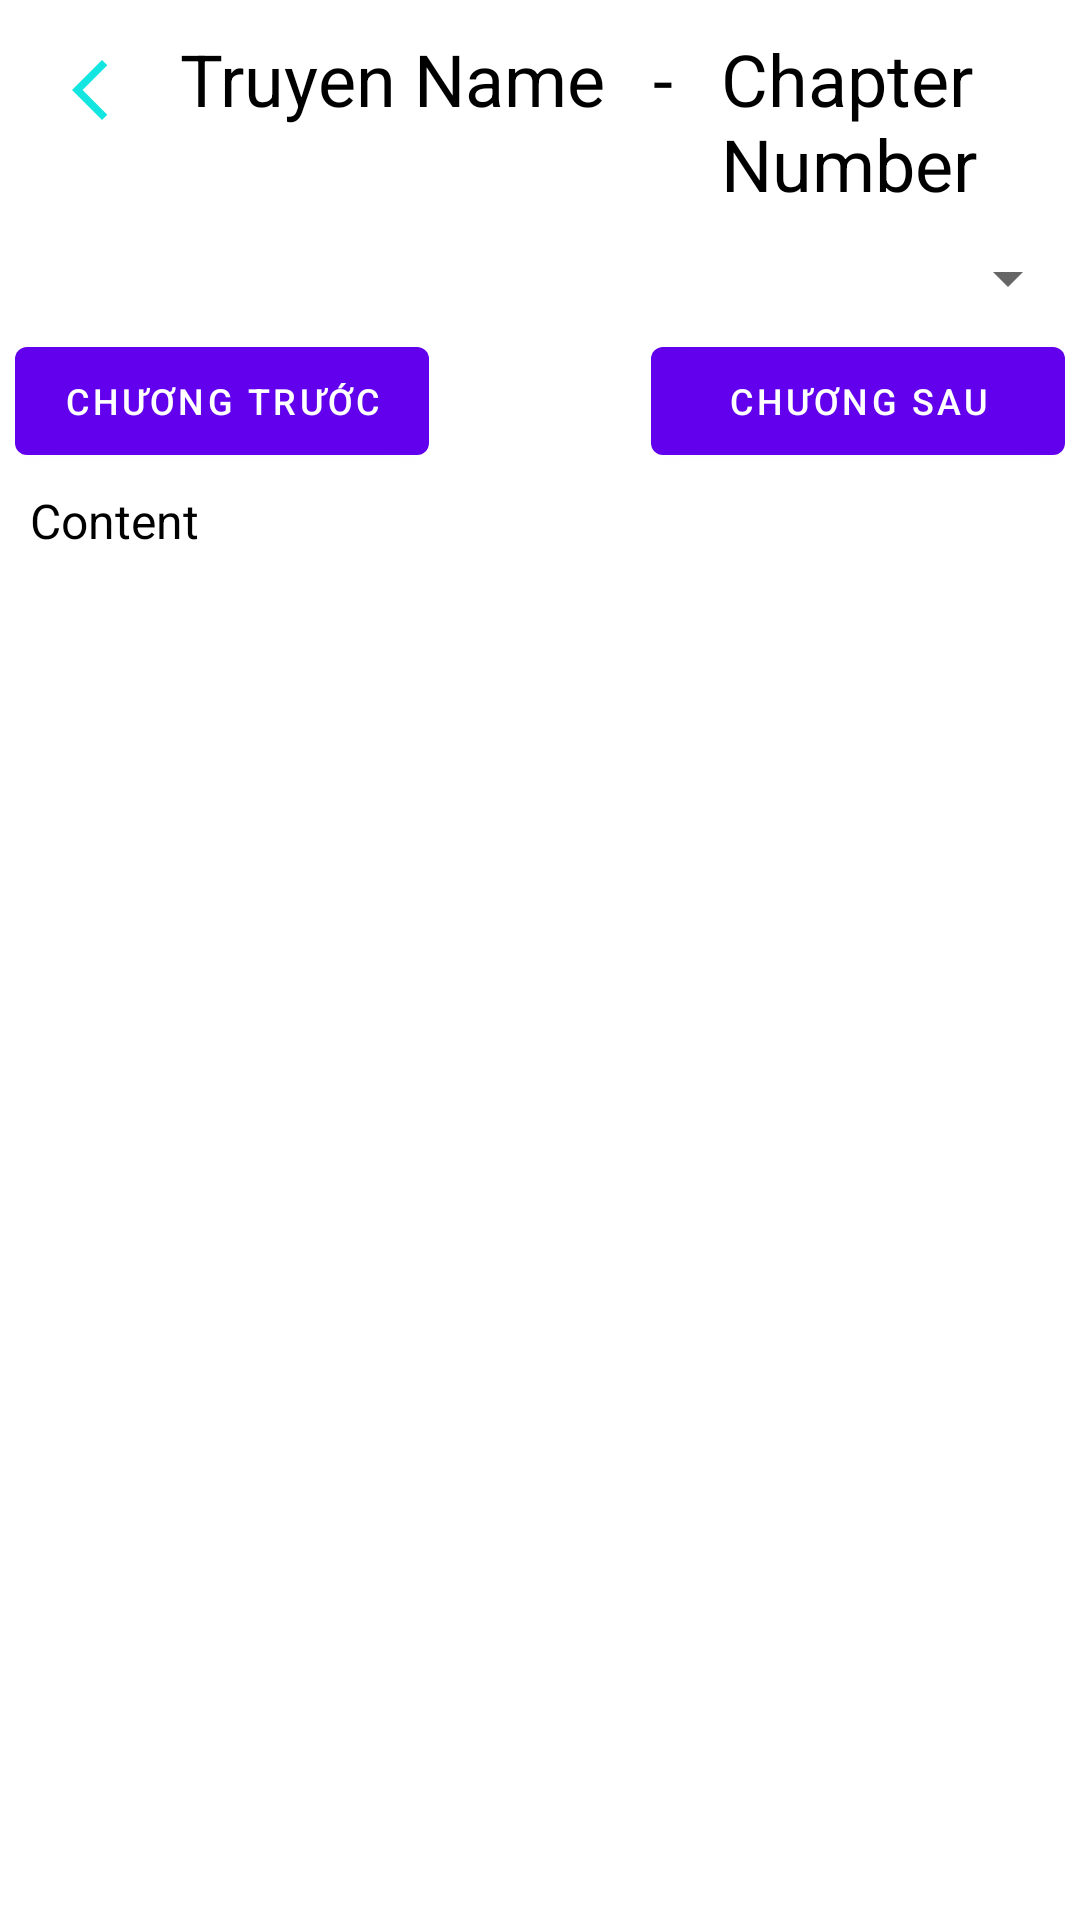

Icon bounding boxes for this 1080x1920 phone screenshot, format [x1, y1, x2, y2]:
arrow back: [72, 60, 107, 120]
